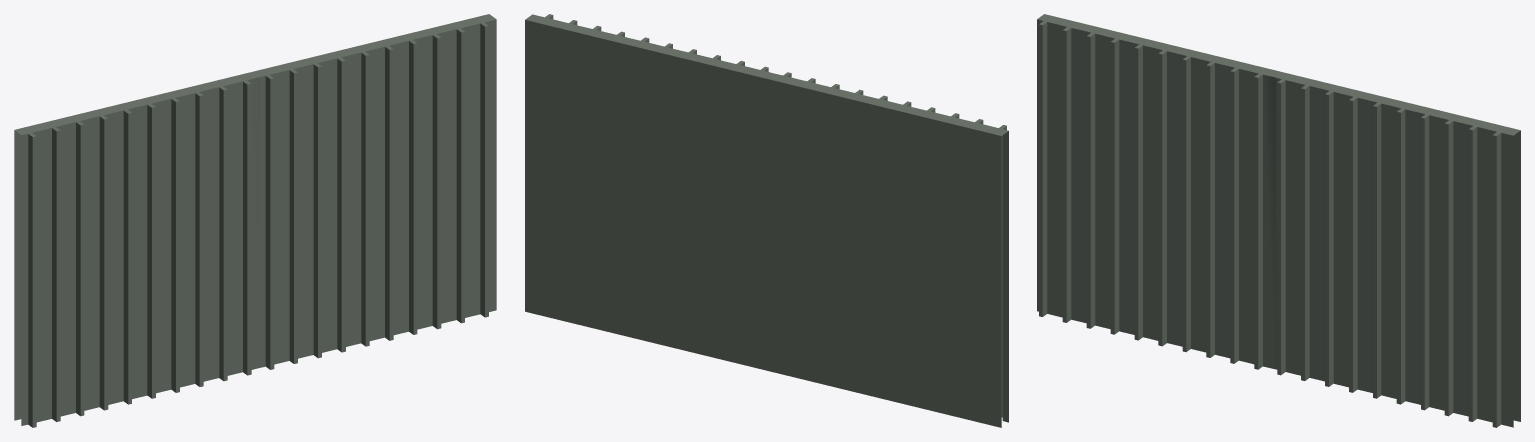
Rendered from SM_garage_entry_04.fbx.
The picture shows the model from 3 angles, left to right: view 1: azimuth 30°, elevation 25°; view 2: azimuth 150°, elevation 25°; view 3: azimuth 330°, elevation 25°; orthographic projection.
Visible parts, largest first — view 1: garage_entry_04; view 2: garage_entry_04; view 3: garage_entry_04.
Boxes of the visible parts, x1=… form: garage_entry_04: x1=14, y1=14, x2=496, y2=427; garage_entry_04: x1=525, y1=14, x2=1008, y2=427; garage_entry_04: x1=1037, y1=14, x2=1520, y2=427.
Size of the model in its own units: 743 by 435 by 32.54.
